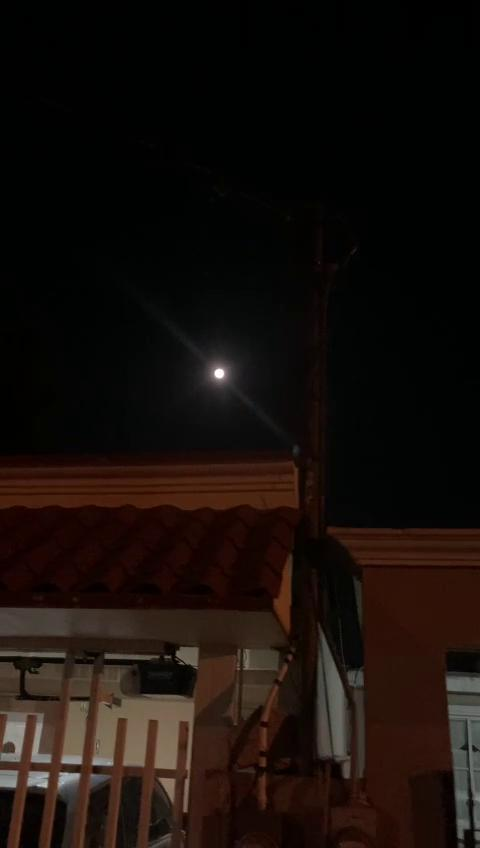moon: (205, 361, 231, 387)
